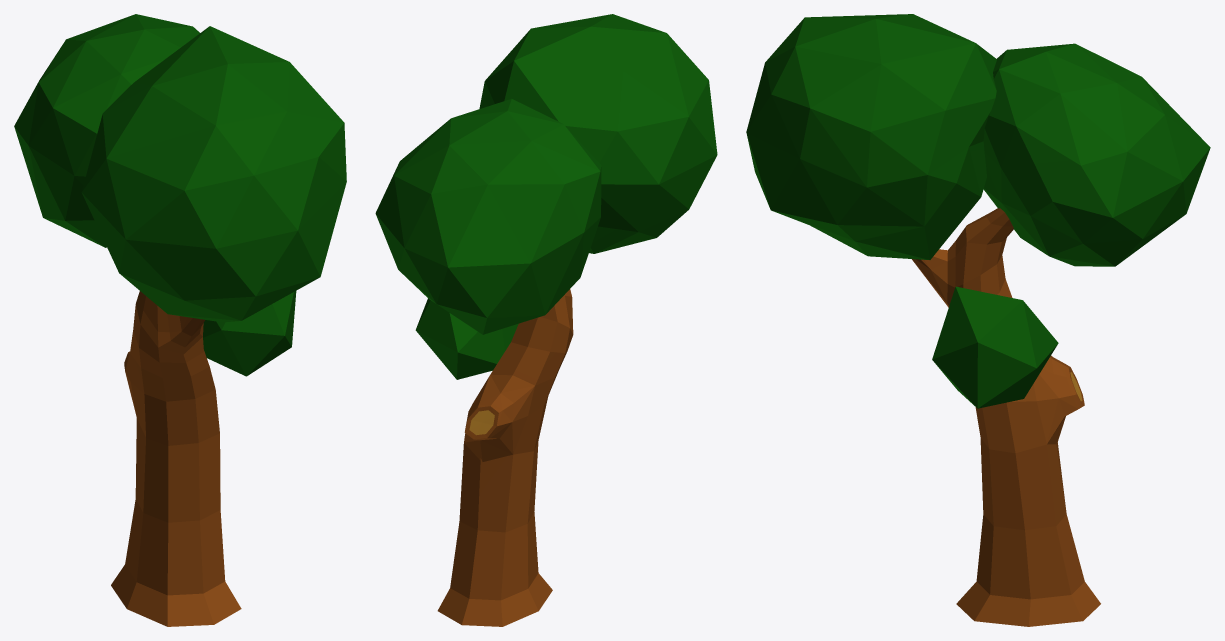
Rendered from tree_01.FBX.
3 renders of one model, left to right at view 1: azimuth 30°, elevation 25°; view 2: azimuth 150°, elevation 25°; view 3: azimuth 270°, elevation 25°, orthographic. The views are drawn at different scales.
Visible parts, largest first — view 1: Leaves_1, tree_01, Leaves_2, Leaves_3, Tree_1; view 2: Leaves_2, Leaves_1, tree_01, Tree_1, Leaves_3; view 3: Leaves_1, Leaves_2, tree_01, Leaves_3.
Part boxes in pixels (box(x1,y1,x2,y2)): Leaves_1: box(81, 26, 346, 322); tree_01: box(124, 291, 241, 626); Leaves_2: box(14, 14, 199, 247); Leaves_3: box(203, 291, 296, 376); Tree_1: box(111, 330, 145, 608); Leaves_2: box(375, 99, 601, 334); Leaves_1: box(479, 14, 717, 253); tree_01: box(437, 289, 573, 624); Tree_1: box(462, 347, 564, 626); Leaves_3: box(415, 298, 518, 379); Leaves_1: box(746, 14, 996, 259); Leaves_2: box(983, 43, 1210, 266); tree_01: box(912, 208, 1100, 626); Leaves_3: box(932, 286, 1058, 408).
Size of the model in its own units: 5.3 by 12.32 by 9.06.
